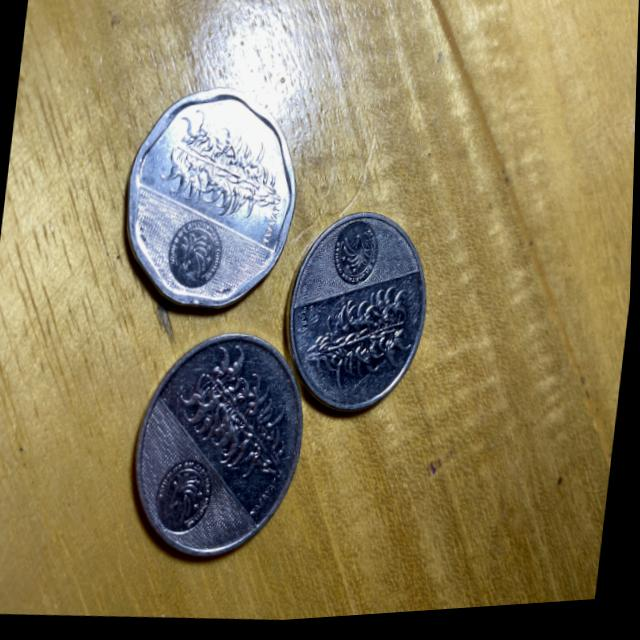5_New_Back: (152, 107, 302, 239), (179, 349, 299, 498), (304, 290, 418, 400)
